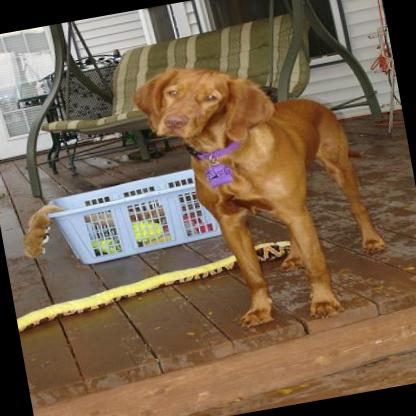vizsla: (123, 34, 393, 346)
